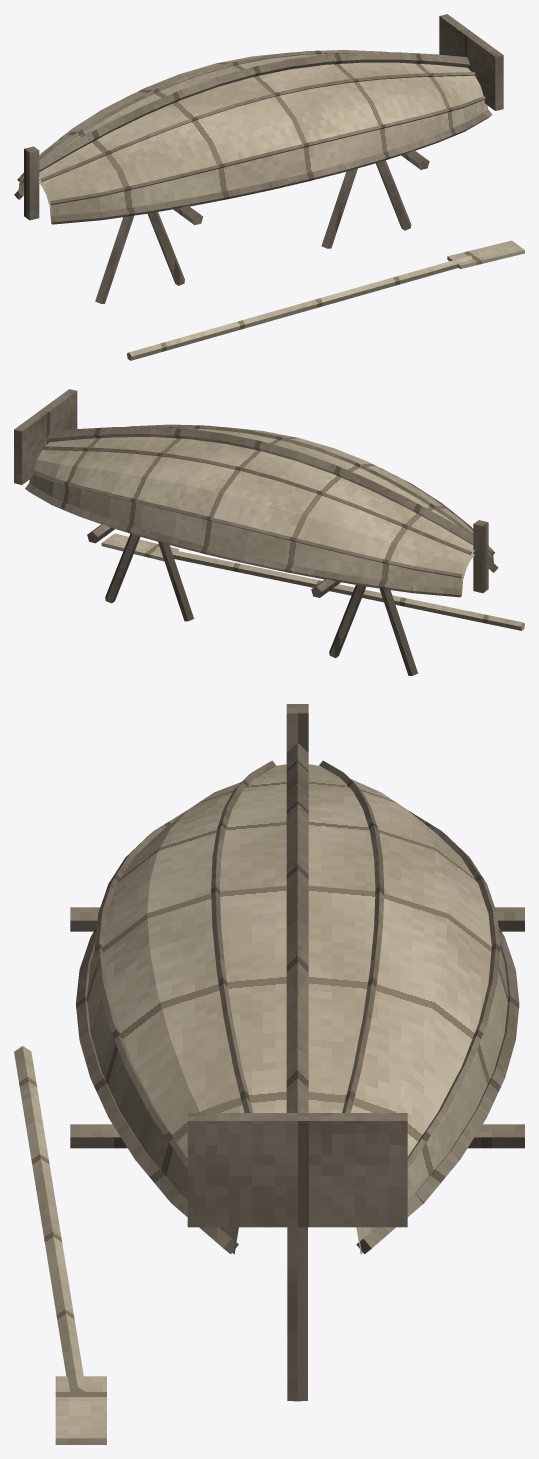
The model's file is rowboat.glb.
3 renders of one model, top to bottom at view 1: azimuth 30°, elevation 25°; view 2: azimuth 150°, elevation 25°; view 3: azimuth 270°, elevation 25°, orthographic. The views are drawn at different scales.
Visible parts, largest first — view 1: body; view 2: body; view 3: body.
Part boxes in pixels (x1=…): body: x1=14, y1=14, x2=524, y2=360; body: x1=14, y1=389, x2=524, y2=675; body: x1=14, y1=704, x2=524, y2=1444.
Size of the model in its own units: 2.77 by 1.18 by 1.39.
2 materials, 2 textured.
